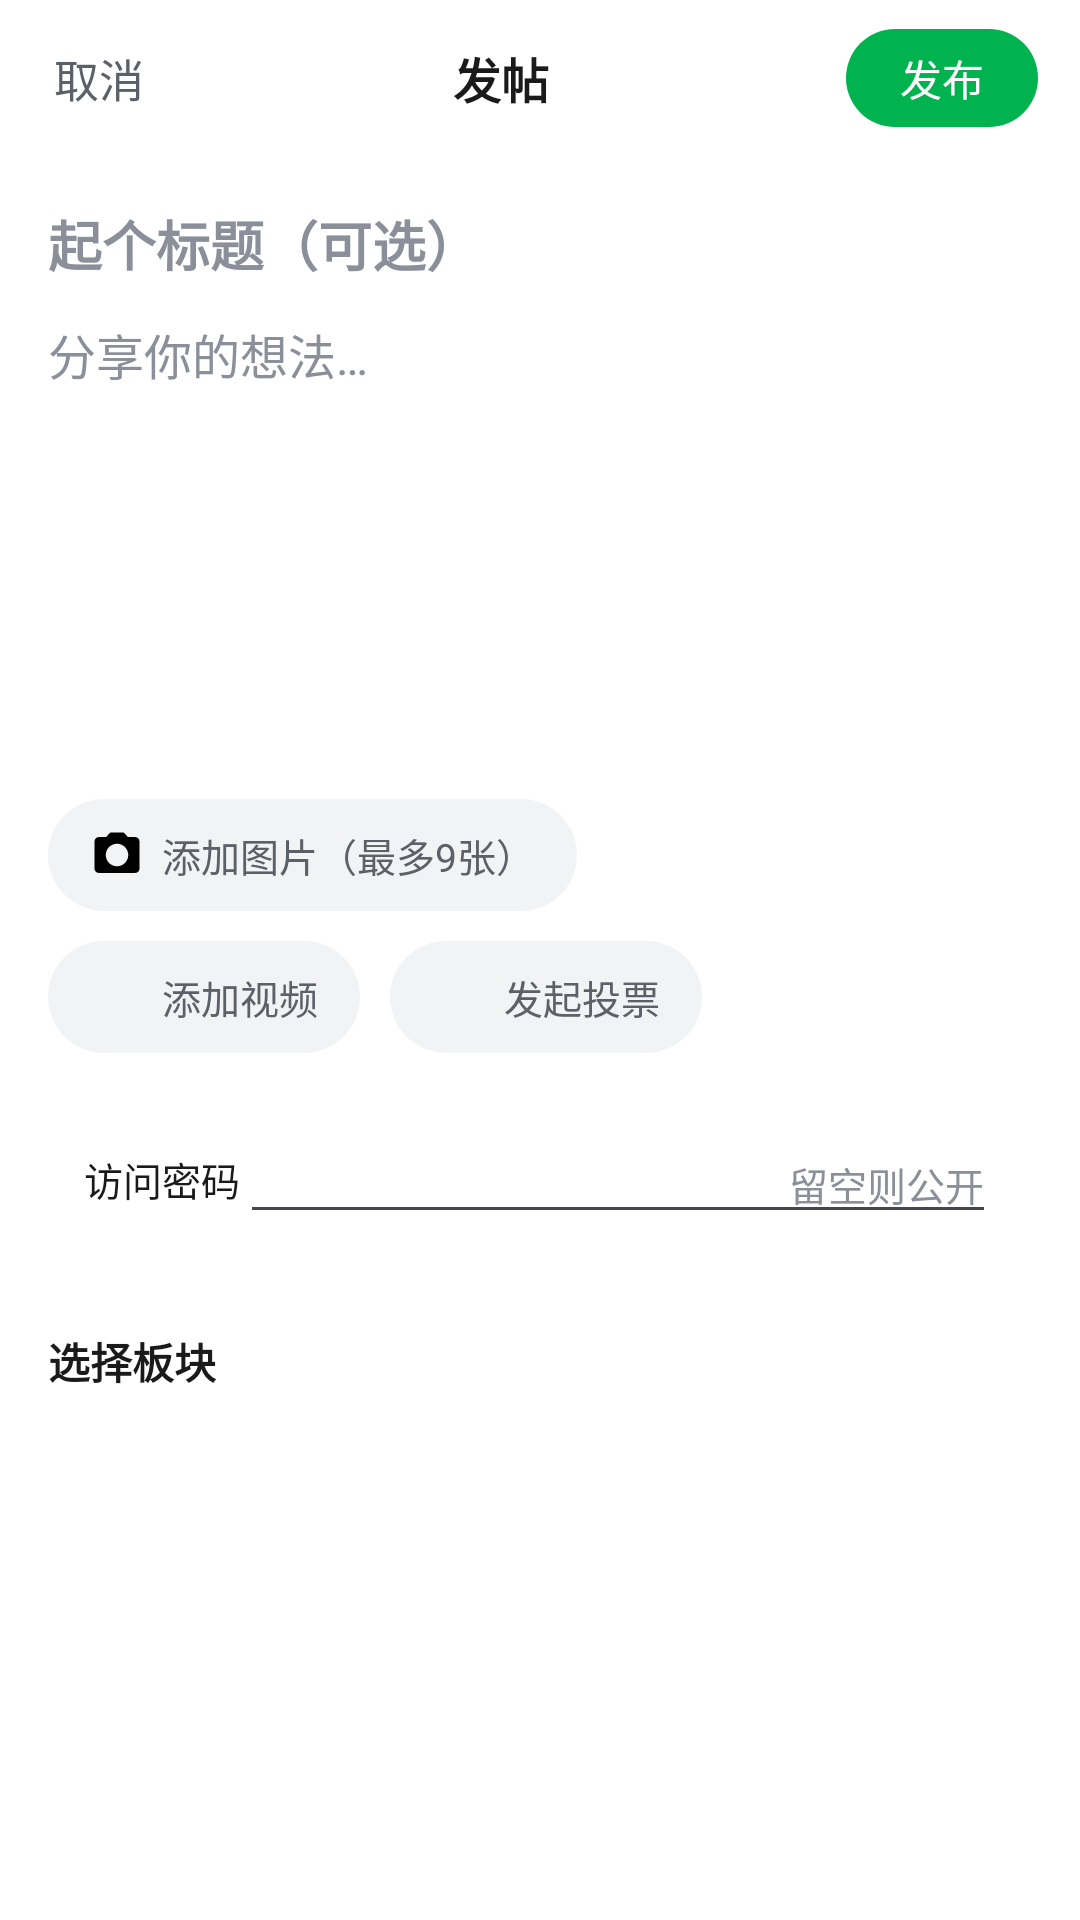

Named icons in this screenshot (1080px×1920px) and their bounding boxes, (x1, y1, x2, y2):
camera: (94, 832, 140, 873)
